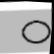no answer: (14, 14, 53, 48)
